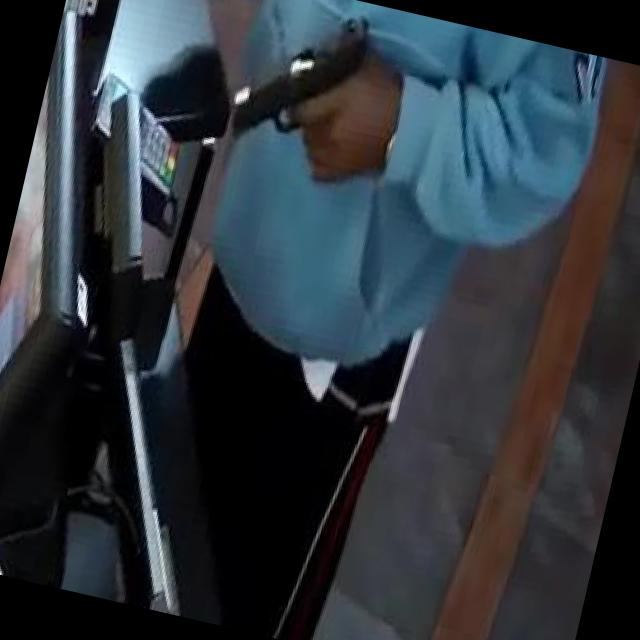Guns: (182, 0, 413, 222)
